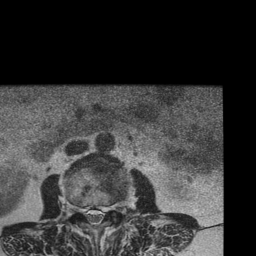CCS_normal: (91, 202, 98, 230)
LFS_stenosis: (105, 199, 112, 218)
LLS_normal: (98, 203, 105, 227)
RFS_normal: (76, 201, 85, 218)
RLS_normal: (84, 203, 92, 225)
